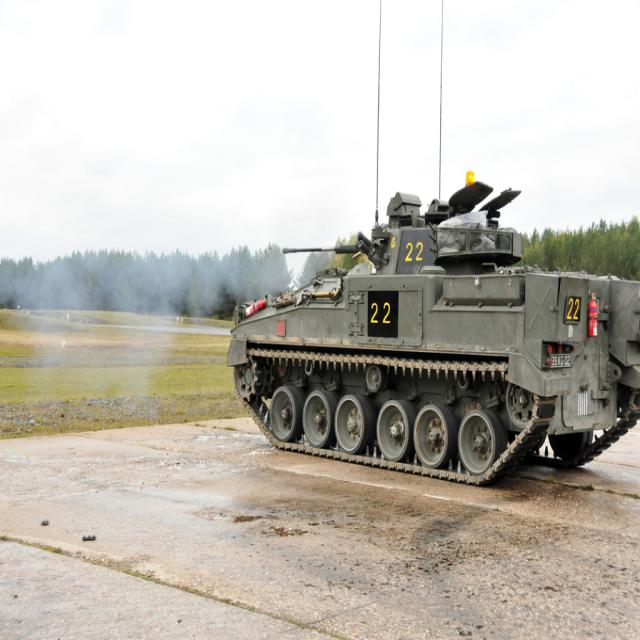tank: (226, 0, 639, 486)
